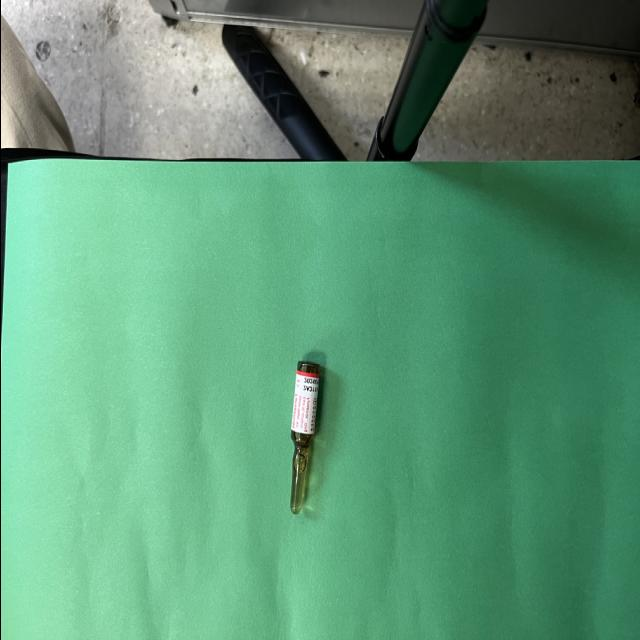Ampoules: (289, 361, 320, 513)
